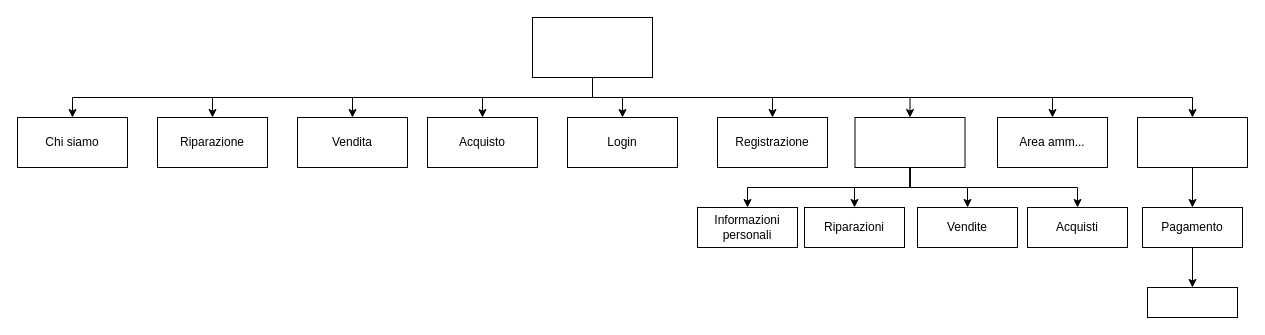
Some shapes in this 1265 by 335 pixel diagram are drawn without their labels. The centre of each missing label's shape, as x and y in pixels:
Area utente: the point at 909,142
Carrello: the point at 1192,142
Esito: the point at 1192,302
Home: the point at 592,47
